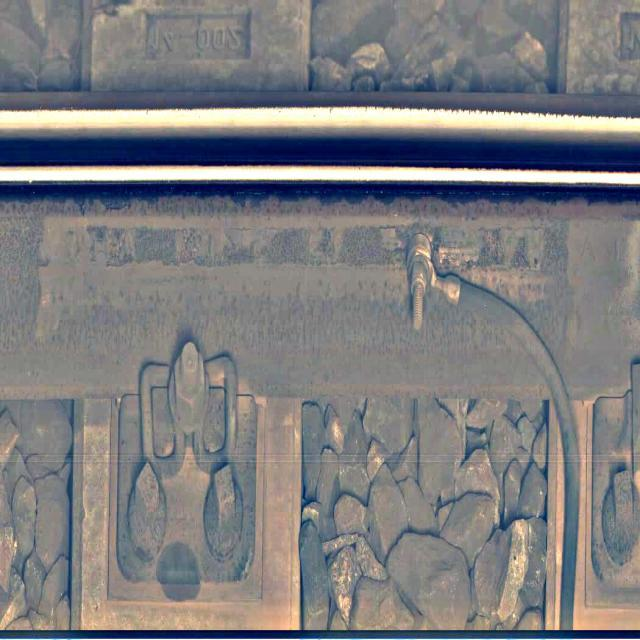Good Fasteners: (116, 342, 261, 601), (585, 360, 639, 609)
